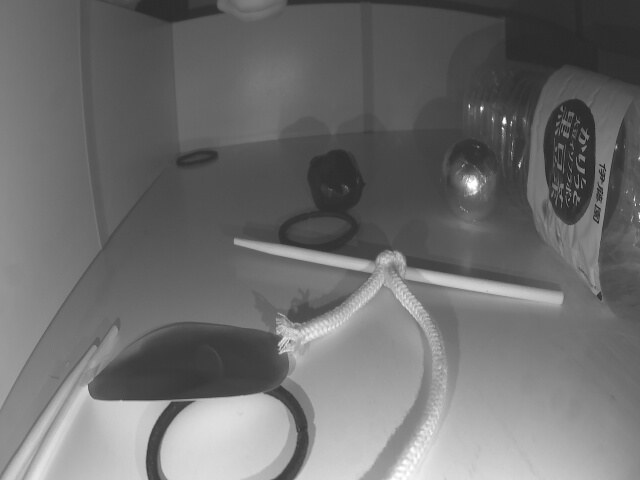Dead: (308, 151, 365, 212)
Live: (442, 137, 501, 226)
